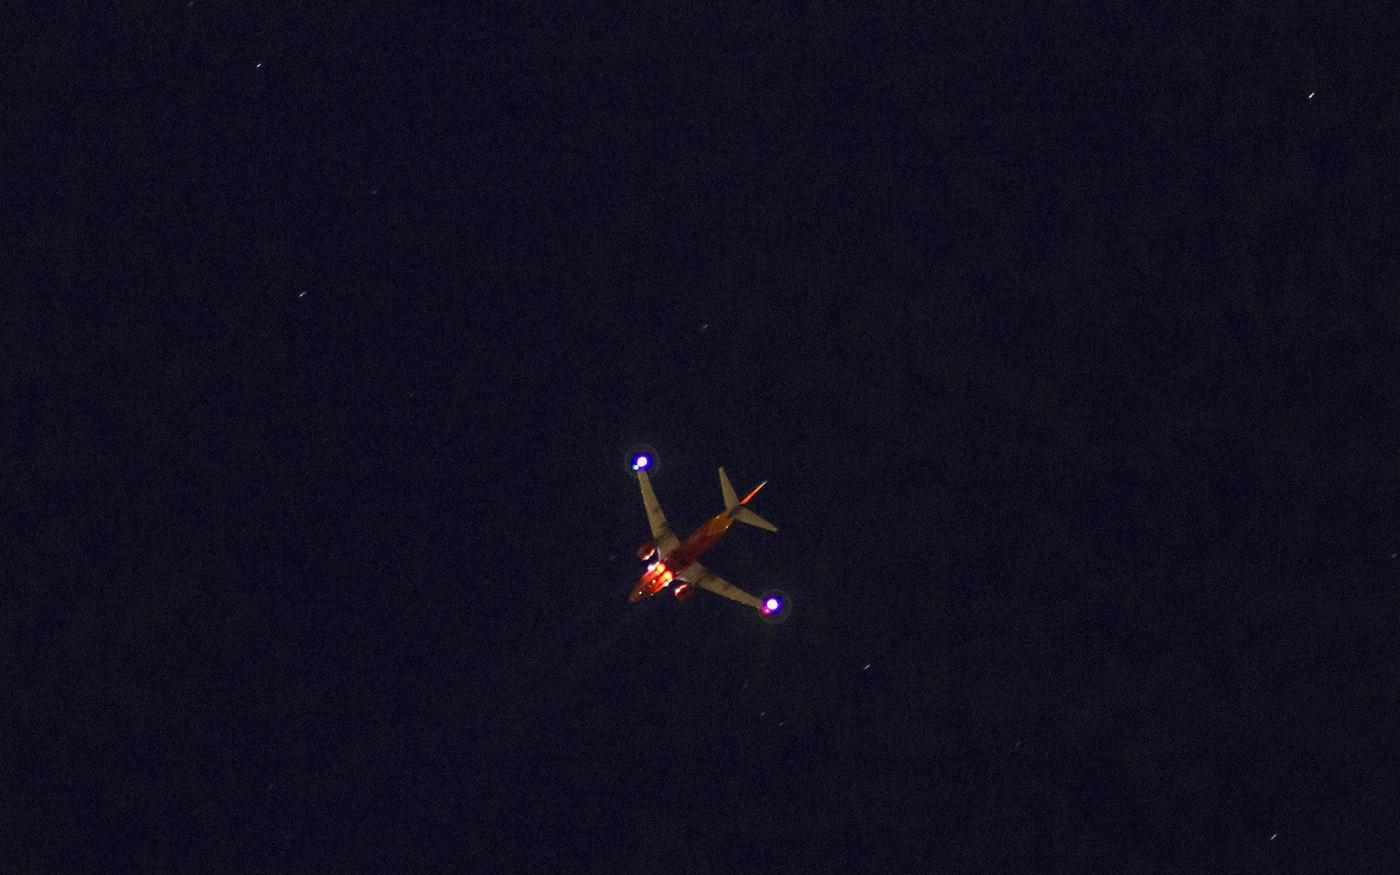Plane: (586, 404, 835, 663)
